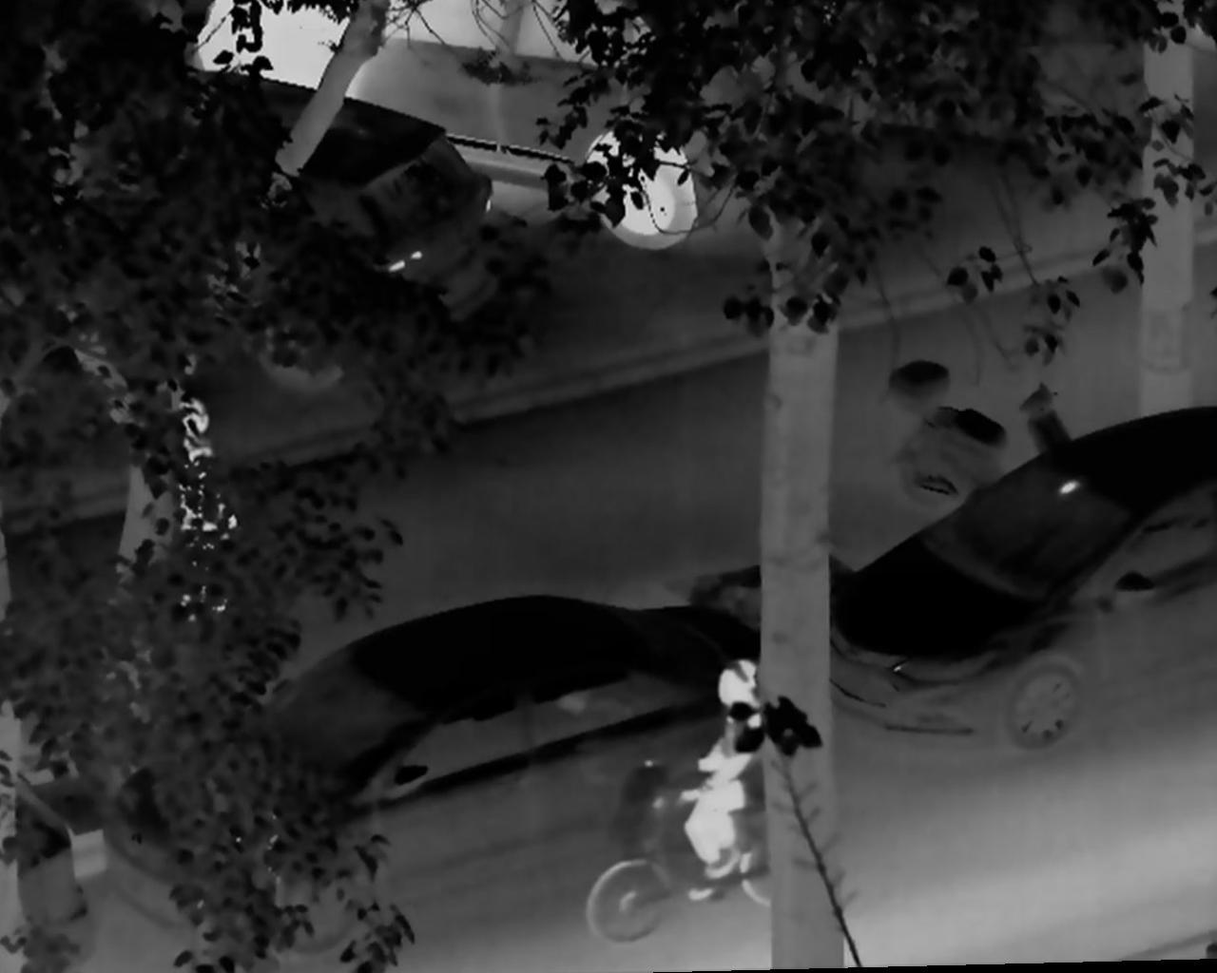person: (673, 656, 763, 904), (163, 394, 239, 625)
